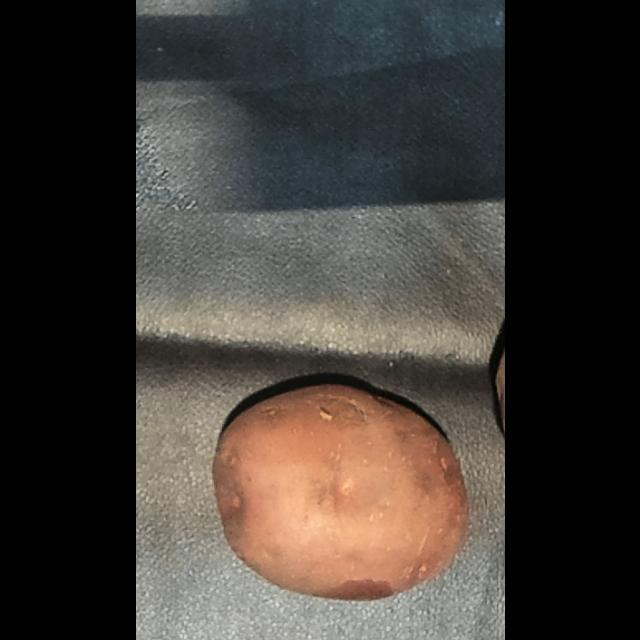Diseased-fungal potato: (202, 363, 490, 609)
